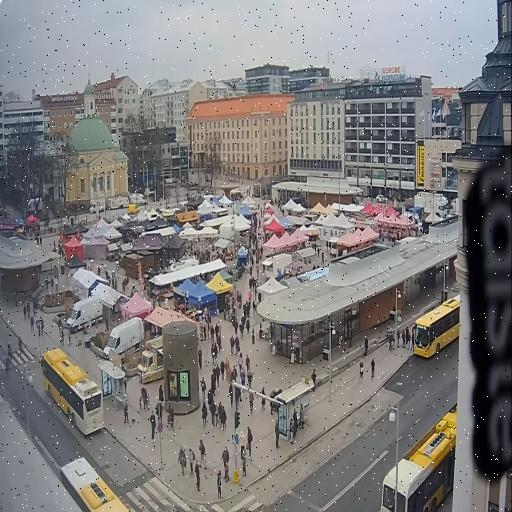bus: (397, 408, 457, 511), (41, 348, 104, 435), (60, 457, 129, 511), (414, 296, 460, 357)
delivery: (104, 317, 144, 359), (67, 297, 103, 333), (138, 336, 163, 383)
